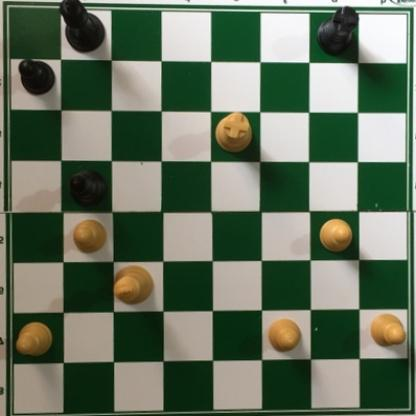black-bishop: (69, 169, 108, 208)
black-king: (58, 1, 107, 54)
black-pawn: (17, 56, 56, 95)
black-rook: (317, 3, 360, 55)
white-king: (112, 263, 155, 306)
white-pawn: (369, 309, 407, 351), (15, 321, 54, 360), (316, 216, 355, 254), (266, 316, 304, 352), (71, 218, 108, 254)
white-rook: (216, 111, 255, 154)
